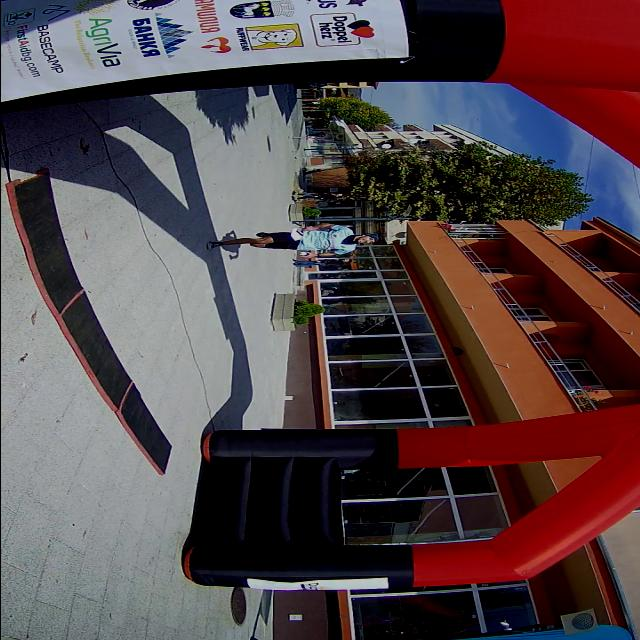runner: (198, 220, 388, 269)
